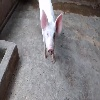heo: (37, 7, 68, 63)
